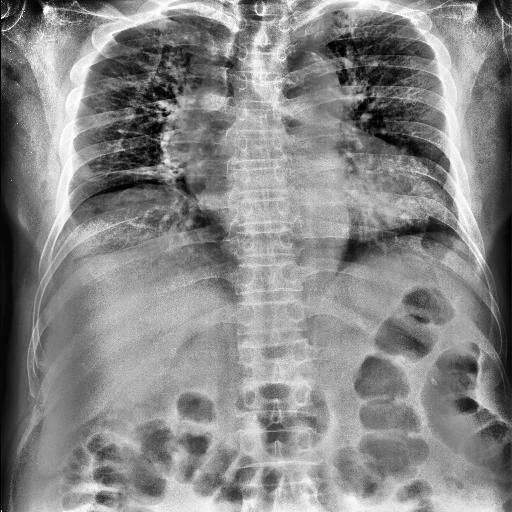0- Aortic enlargement: (248, 44, 344, 122), (270, 52, 342, 112), (266, 46, 343, 102)
13- Pulmonary fibrosis: (86, 149, 182, 196)
3- Cardiomegaly: (183, 132, 451, 230), (186, 160, 440, 242), (180, 158, 452, 222)
7- Lung Opacity: (40, 179, 222, 264)
